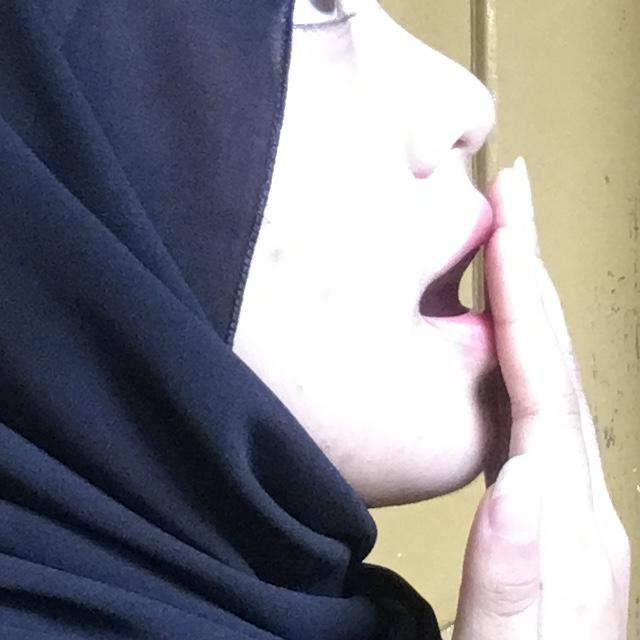ngantuk: (330, 146, 640, 640)
